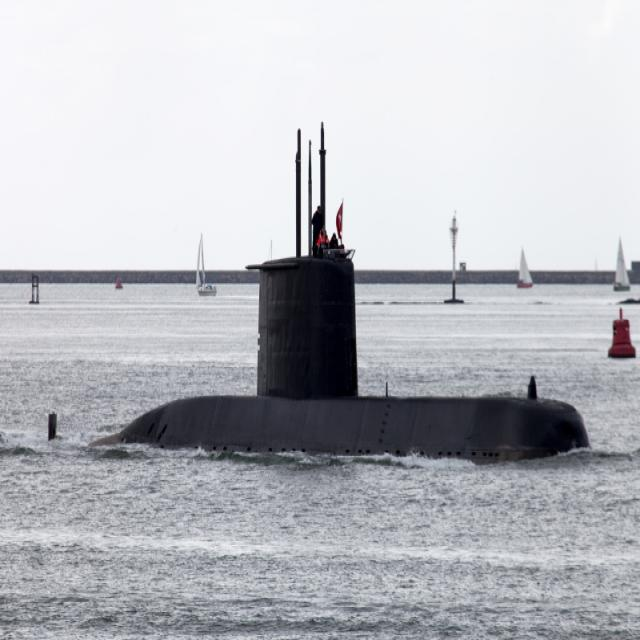submarine: (38, 108, 598, 476)
